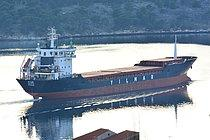Ship: (12, 27, 201, 105)
